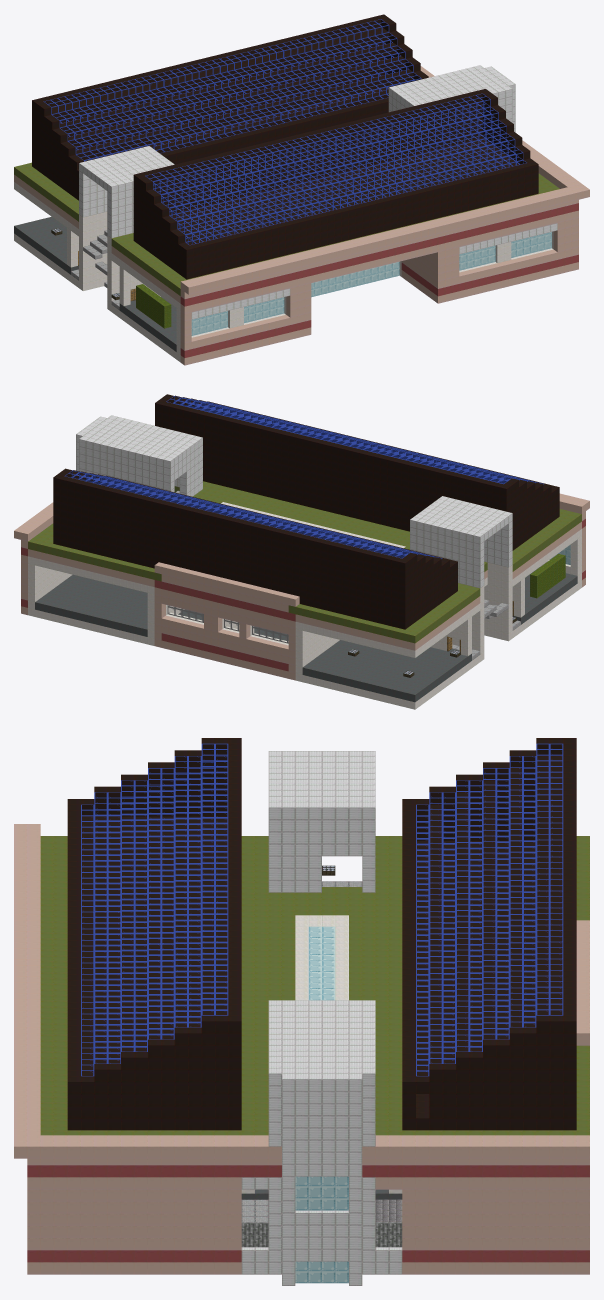
File: senkoka5F&R.obj
The picture shows the model from 3 angles, top to bottom: view 1: azimuth 30°, elevation 25°; view 2: azimuth 150°, elevation 25°; view 3: azimuth 270°, elevation 25°; orthographic projection. The views are drawn at different scales.
Visible parts, largest first — view 1: R1KosenWorld__9_93_-214_to_66_111_-171; view 2: R1KosenWorld__9_93_-214_to_66_111_-171; view 3: R1KosenWorld__9_93_-214_to_66_111_-171.
Part boxes in pixels (bbox=[...]): R1KosenWorld__9_93_-214_to_66_111_-171: bbox=[14, 14, 589, 365]; R1KosenWorld__9_93_-214_to_66_111_-171: bbox=[14, 394, 589, 709]; R1KosenWorld__9_93_-214_to_66_111_-171: bbox=[14, 738, 589, 1285].
Bounding box in the file's own units: 58 × 20 × 43.
